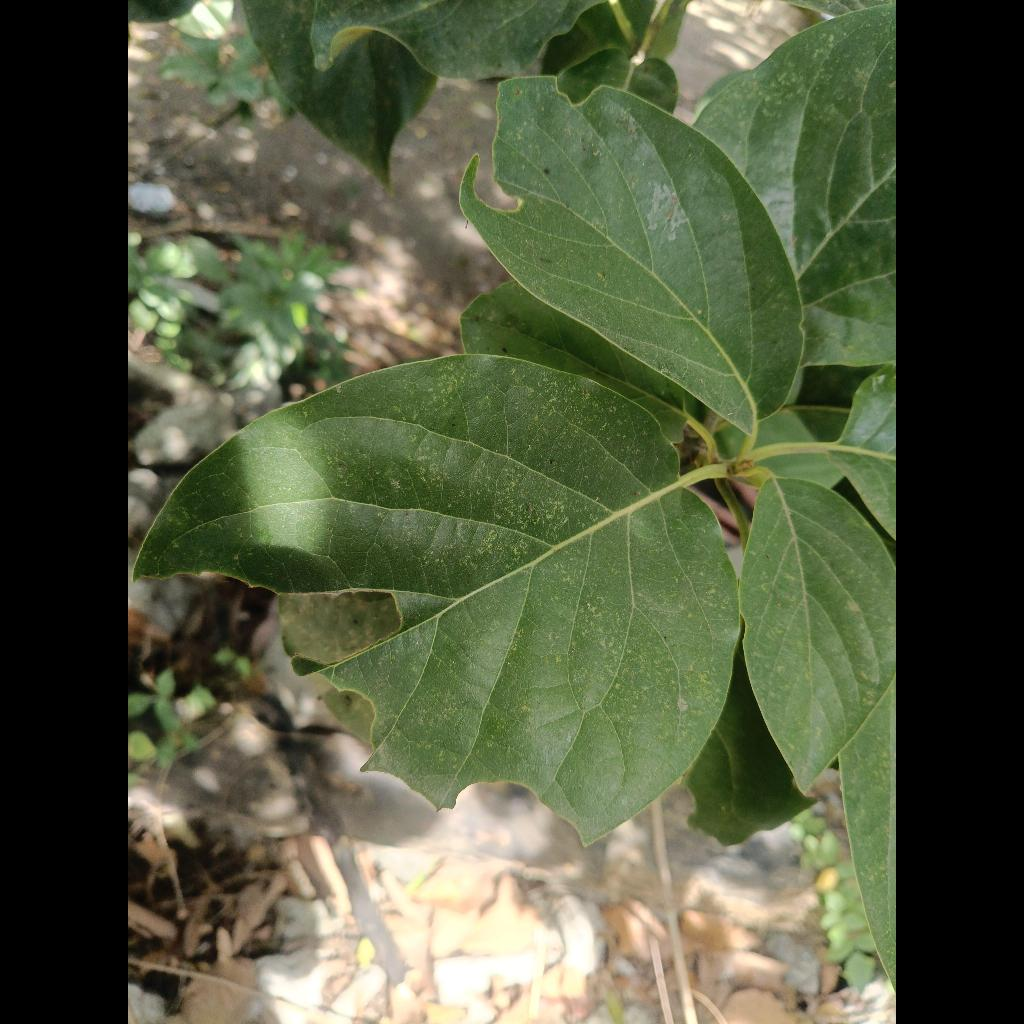Pest Infested: (136, 354, 739, 841), (460, 78, 802, 431)
